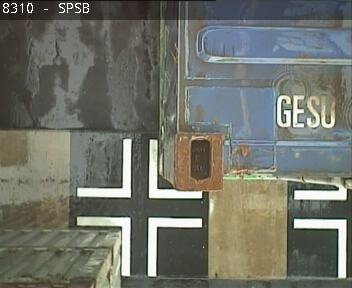groundmarker_1: (75, 215, 202, 276), (76, 138, 202, 199), (293, 183, 348, 278)
